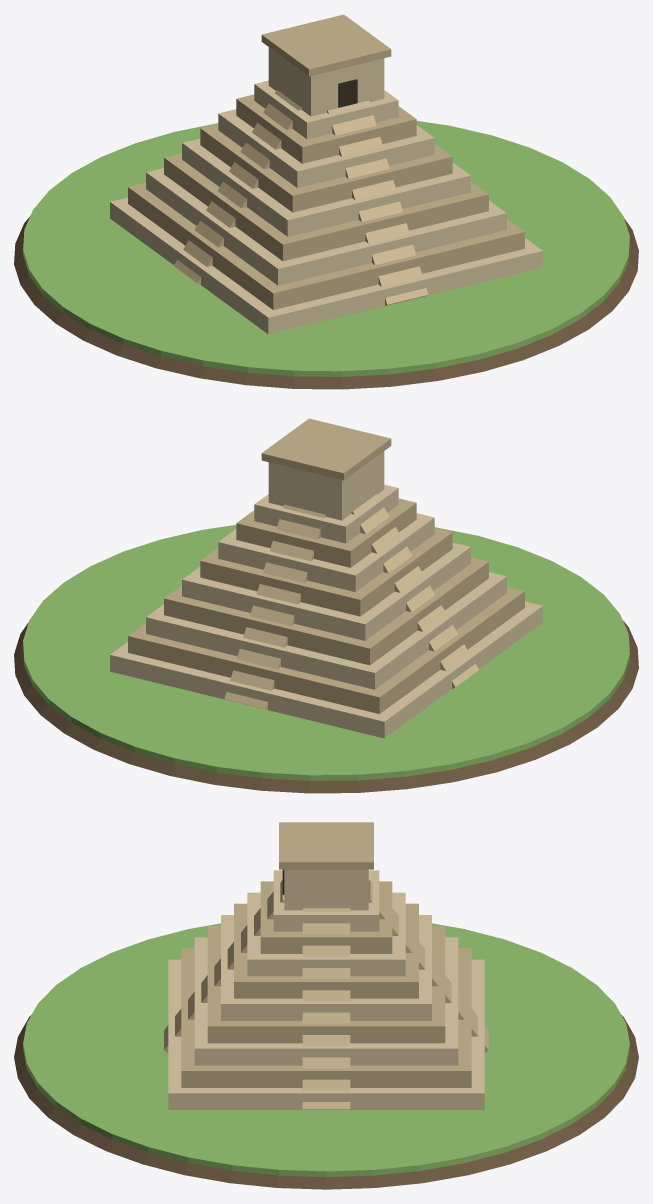
The model's file is el-castillo.glb.
The picture shows the model from 3 angles, top to bottom: view 1: azimuth 30°, elevation 25°; view 2: azimuth 150°, elevation 25°; view 3: azimuth 270°, elevation 25°; orthographic projection.
Visible parts, largest first — view 1: el-castillo; view 2: el-castillo; view 3: el-castillo.
Boxes of the visible parts, bbox=[...] form: el-castillo: bbox=[14, 14, 638, 389]; el-castillo: bbox=[14, 418, 638, 793]; el-castillo: bbox=[14, 822, 638, 1189].
Bounding box in the file's own units: 2.63 × 1 × 2.63.
